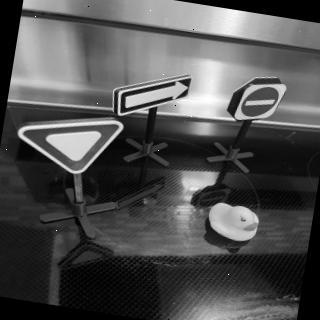duck_regular: (206, 202, 262, 247)
sign_noentry: (233, 76, 289, 130)
sign_oneway_right: (111, 65, 195, 128)
sign_yield: (13, 106, 127, 184)
